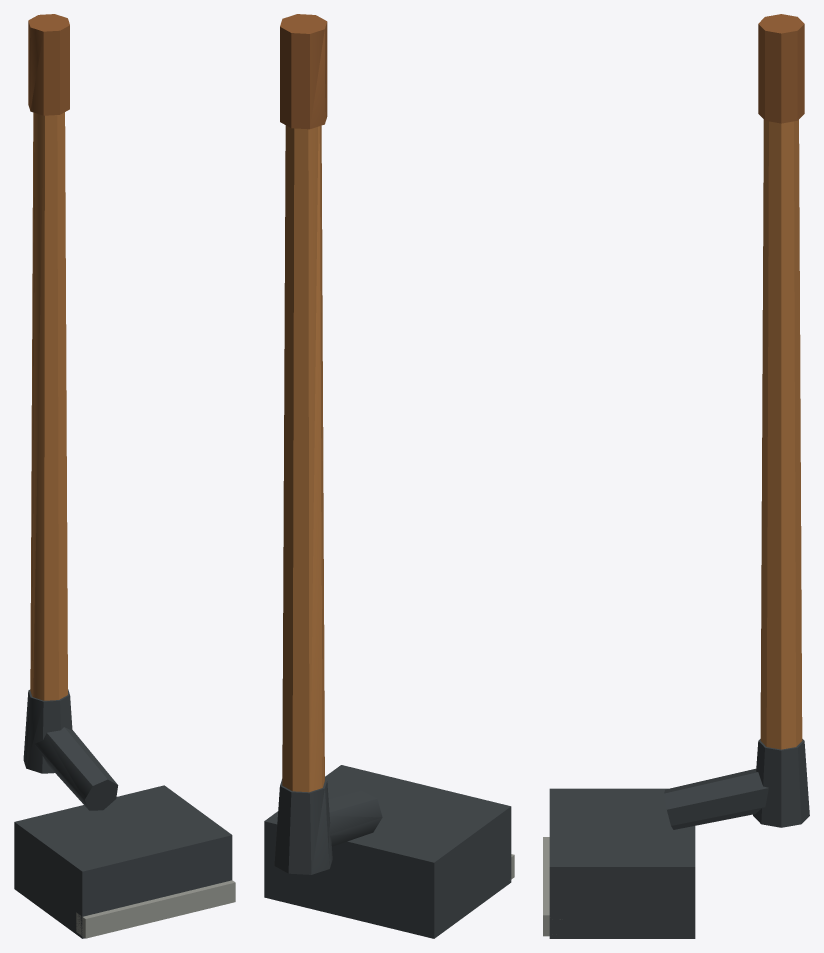
File: 62_field_hoe.fbx
3 views of the same model, side by side, from view 1: azimuth 30°, elevation 25°; view 2: azimuth 150°, elevation 25°; view 3: azimuth 270°, elevation 25° (orthographic). The views are drawn at different scales.
Visible parts, largest first — view 1: 62_field_hoe; view 2: 62_field_hoe; view 3: 62_field_hoe.
Part boxes in pixels (left/top/right/bottom): 62_field_hoe: left=14, top=14, right=235, bottom=938; 62_field_hoe: left=264, top=14, right=514, bottom=938; 62_field_hoe: left=543, top=14, right=809, bottom=938.
Size of the model in its own units: 0.28 by 1.46 by 0.403.
Materials: 1 (1 with a texture image).
